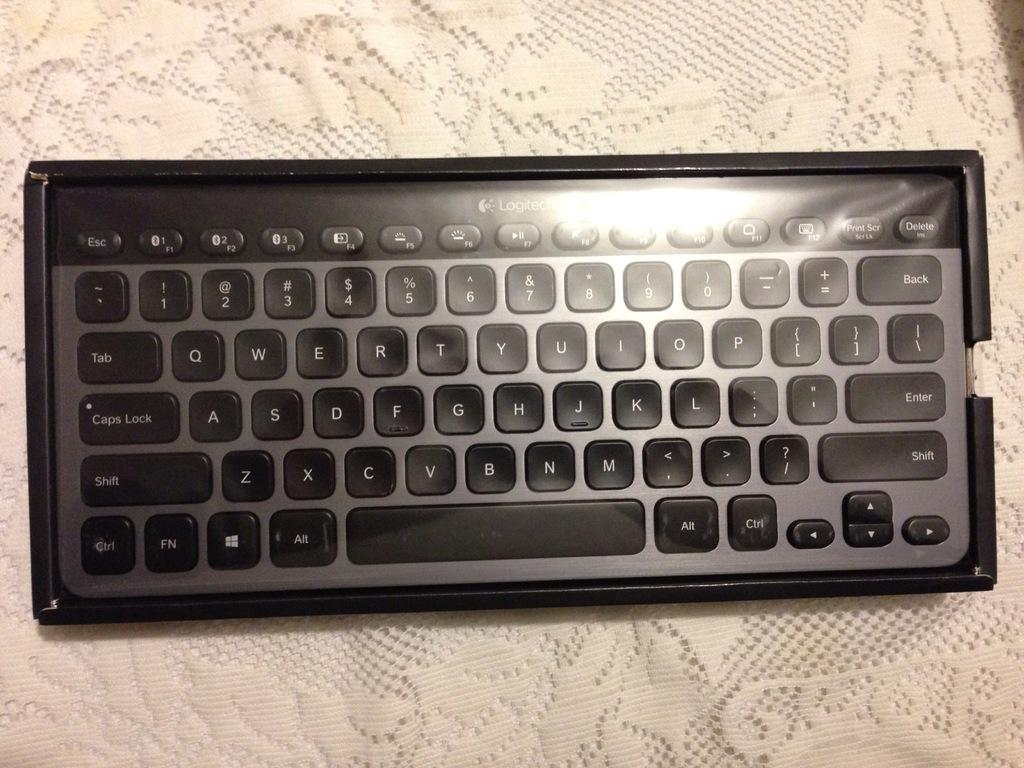Computer-keyboard: (54, 173, 968, 598)
